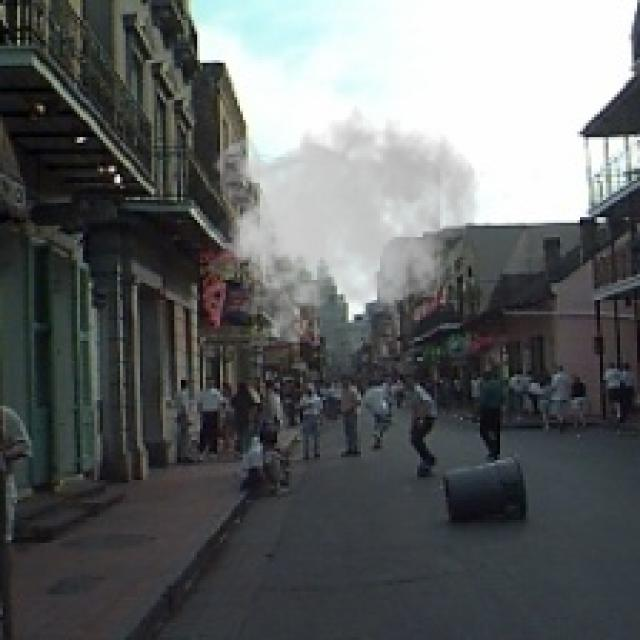smoke: (209, 94, 480, 343)
